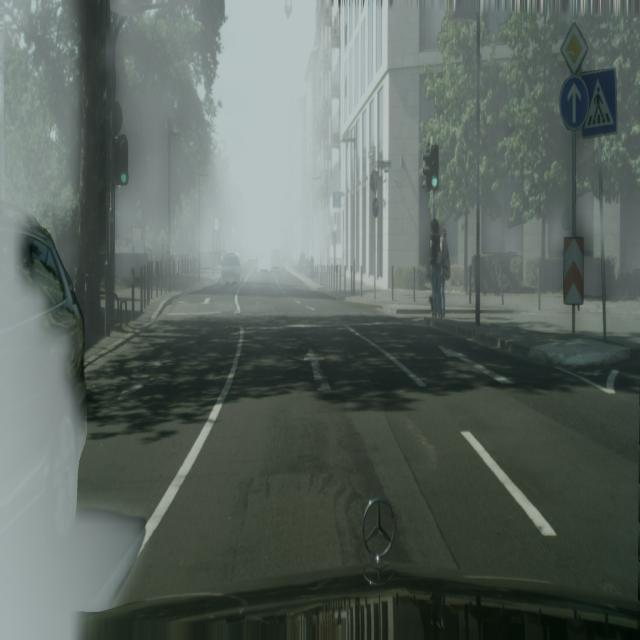person: (429, 219, 443, 319), (440, 228, 450, 316)
truck: (0, 201, 89, 551), (255, 247, 274, 283), (221, 254, 240, 285), (271, 247, 283, 278)
